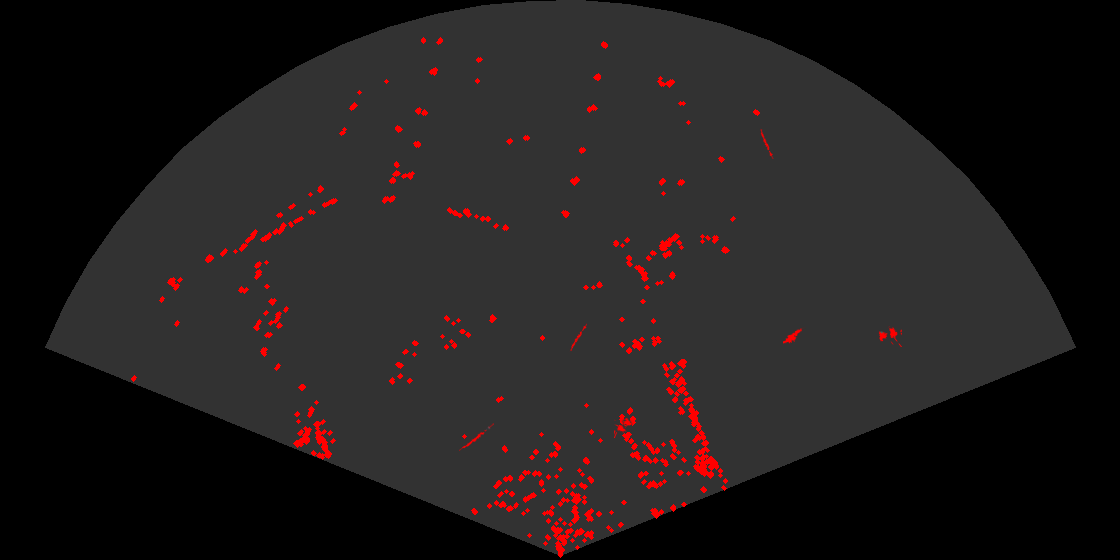cage: (877, 325, 902, 347), (614, 416, 633, 438)
chain: (459, 423, 494, 453), (568, 322, 587, 352), (759, 128, 774, 159)
frogman: (783, 327, 806, 346)
